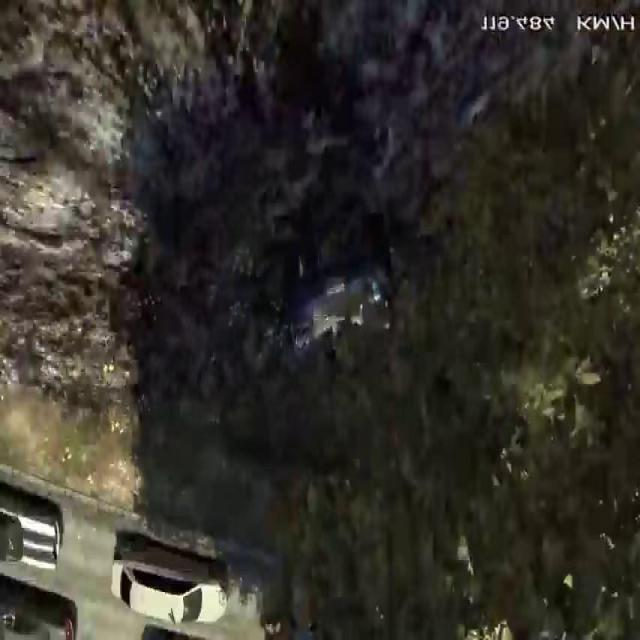severe: (273, 215, 398, 374)
